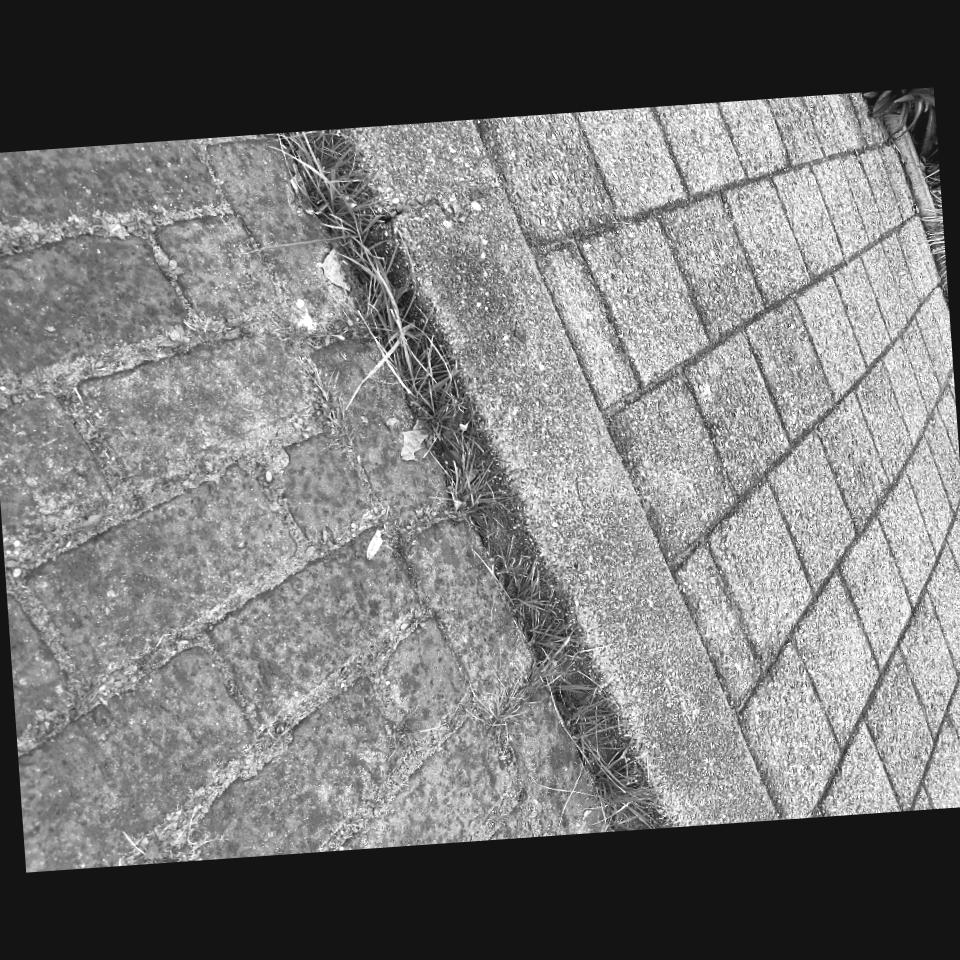weed: (258, 403, 958, 784), (486, 716, 581, 778), (822, 590, 886, 651), (637, 685, 679, 749), (801, 681, 817, 703), (948, 708, 960, 736)
